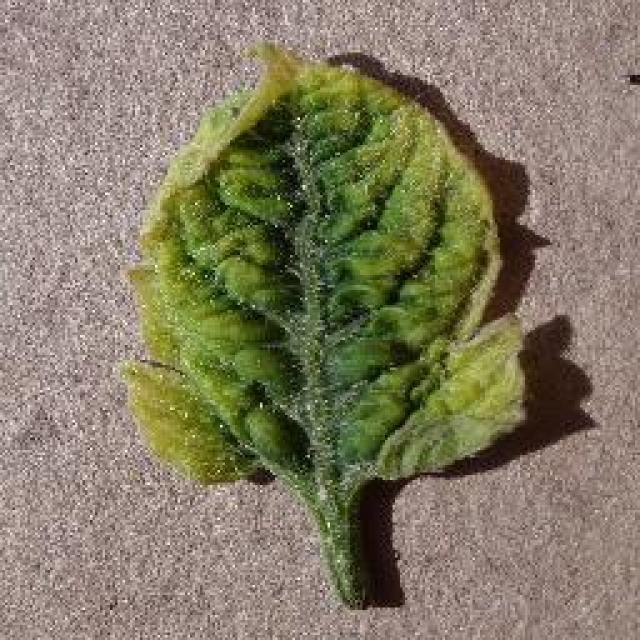Tomato yellow virus leaf: (120, 40, 527, 480)
